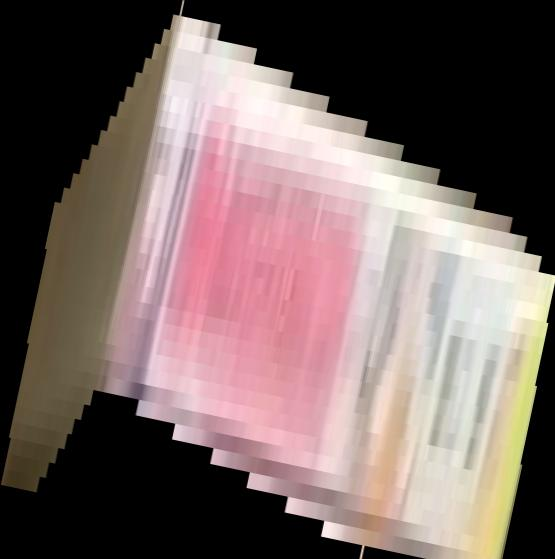flat: (1, 1, 555, 559)
